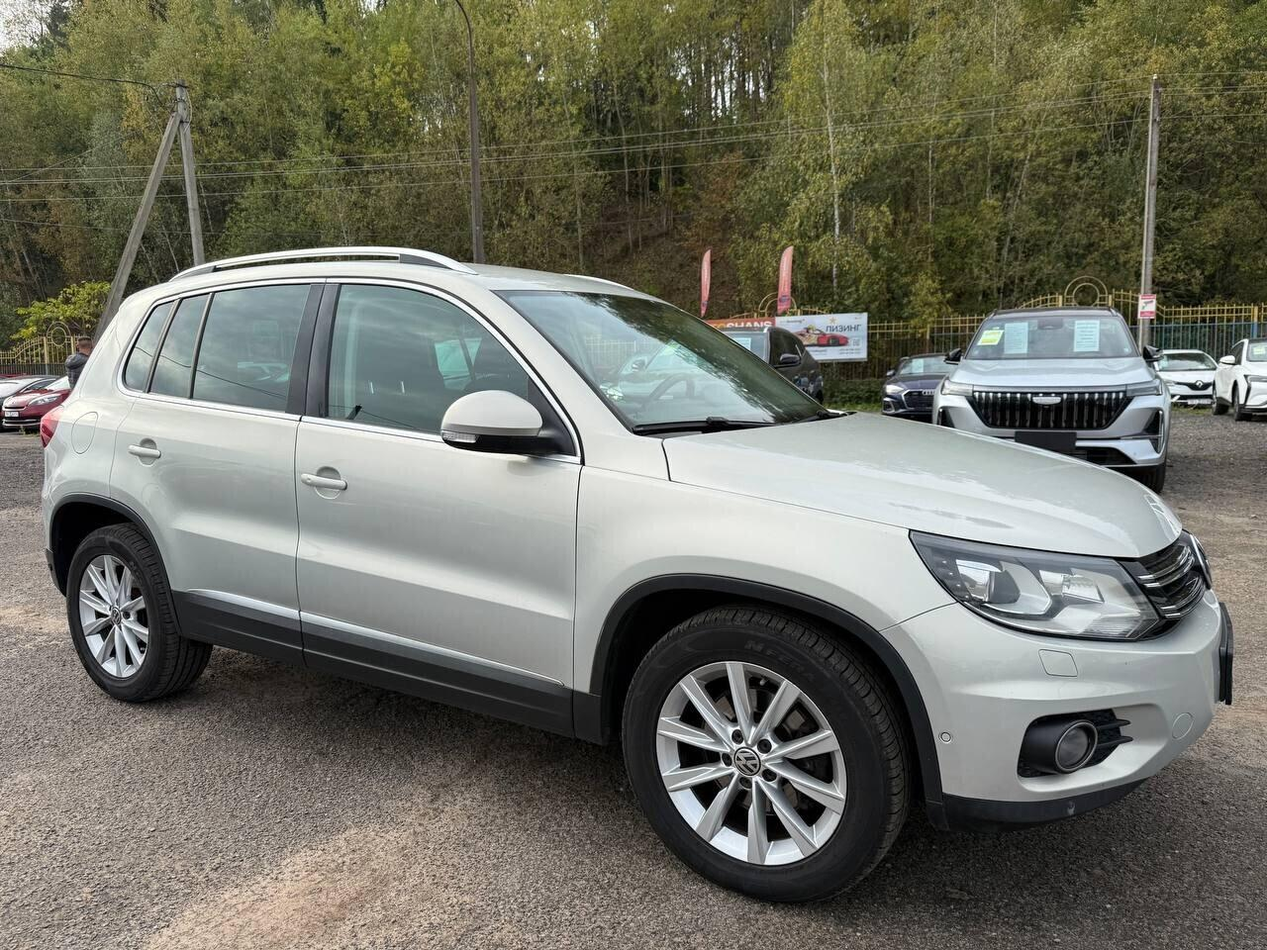Tiguan_2011-2018: (30, 255, 1230, 894)
